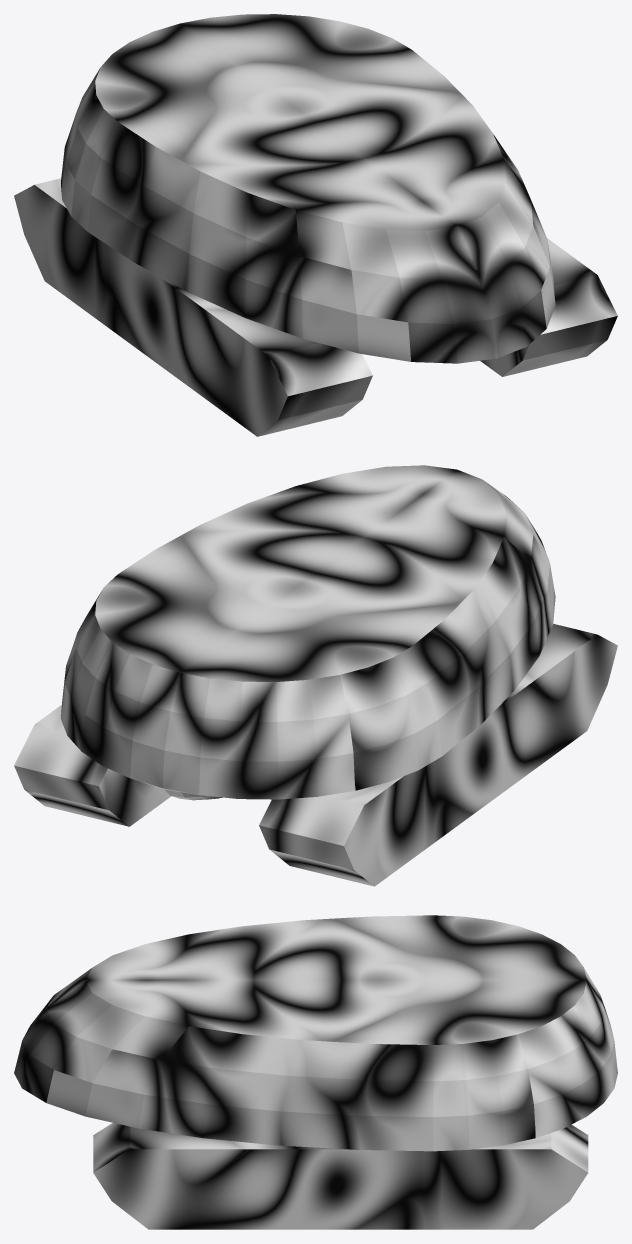
File: TankBody.dae
3 renders of one model, top to bottom at view 1: azimuth 30°, elevation 25°; view 2: azimuth 150°, elevation 25°; view 3: azimuth 270°, elevation 25°, orthographic. The views are drawn at different scales.
Parts seen in each view (by area): view 1: Sphere; view 2: Sphere; view 3: Sphere.
Part boxes in pixels (x1,y1,x2,y2): Sphere: (14, 14, 617, 436); Sphere: (14, 465, 617, 886); Sphere: (14, 915, 617, 1229).
Bounding box in the file's own units: 2 × 3.27 × 1.06.
1 material, 1 textured.
